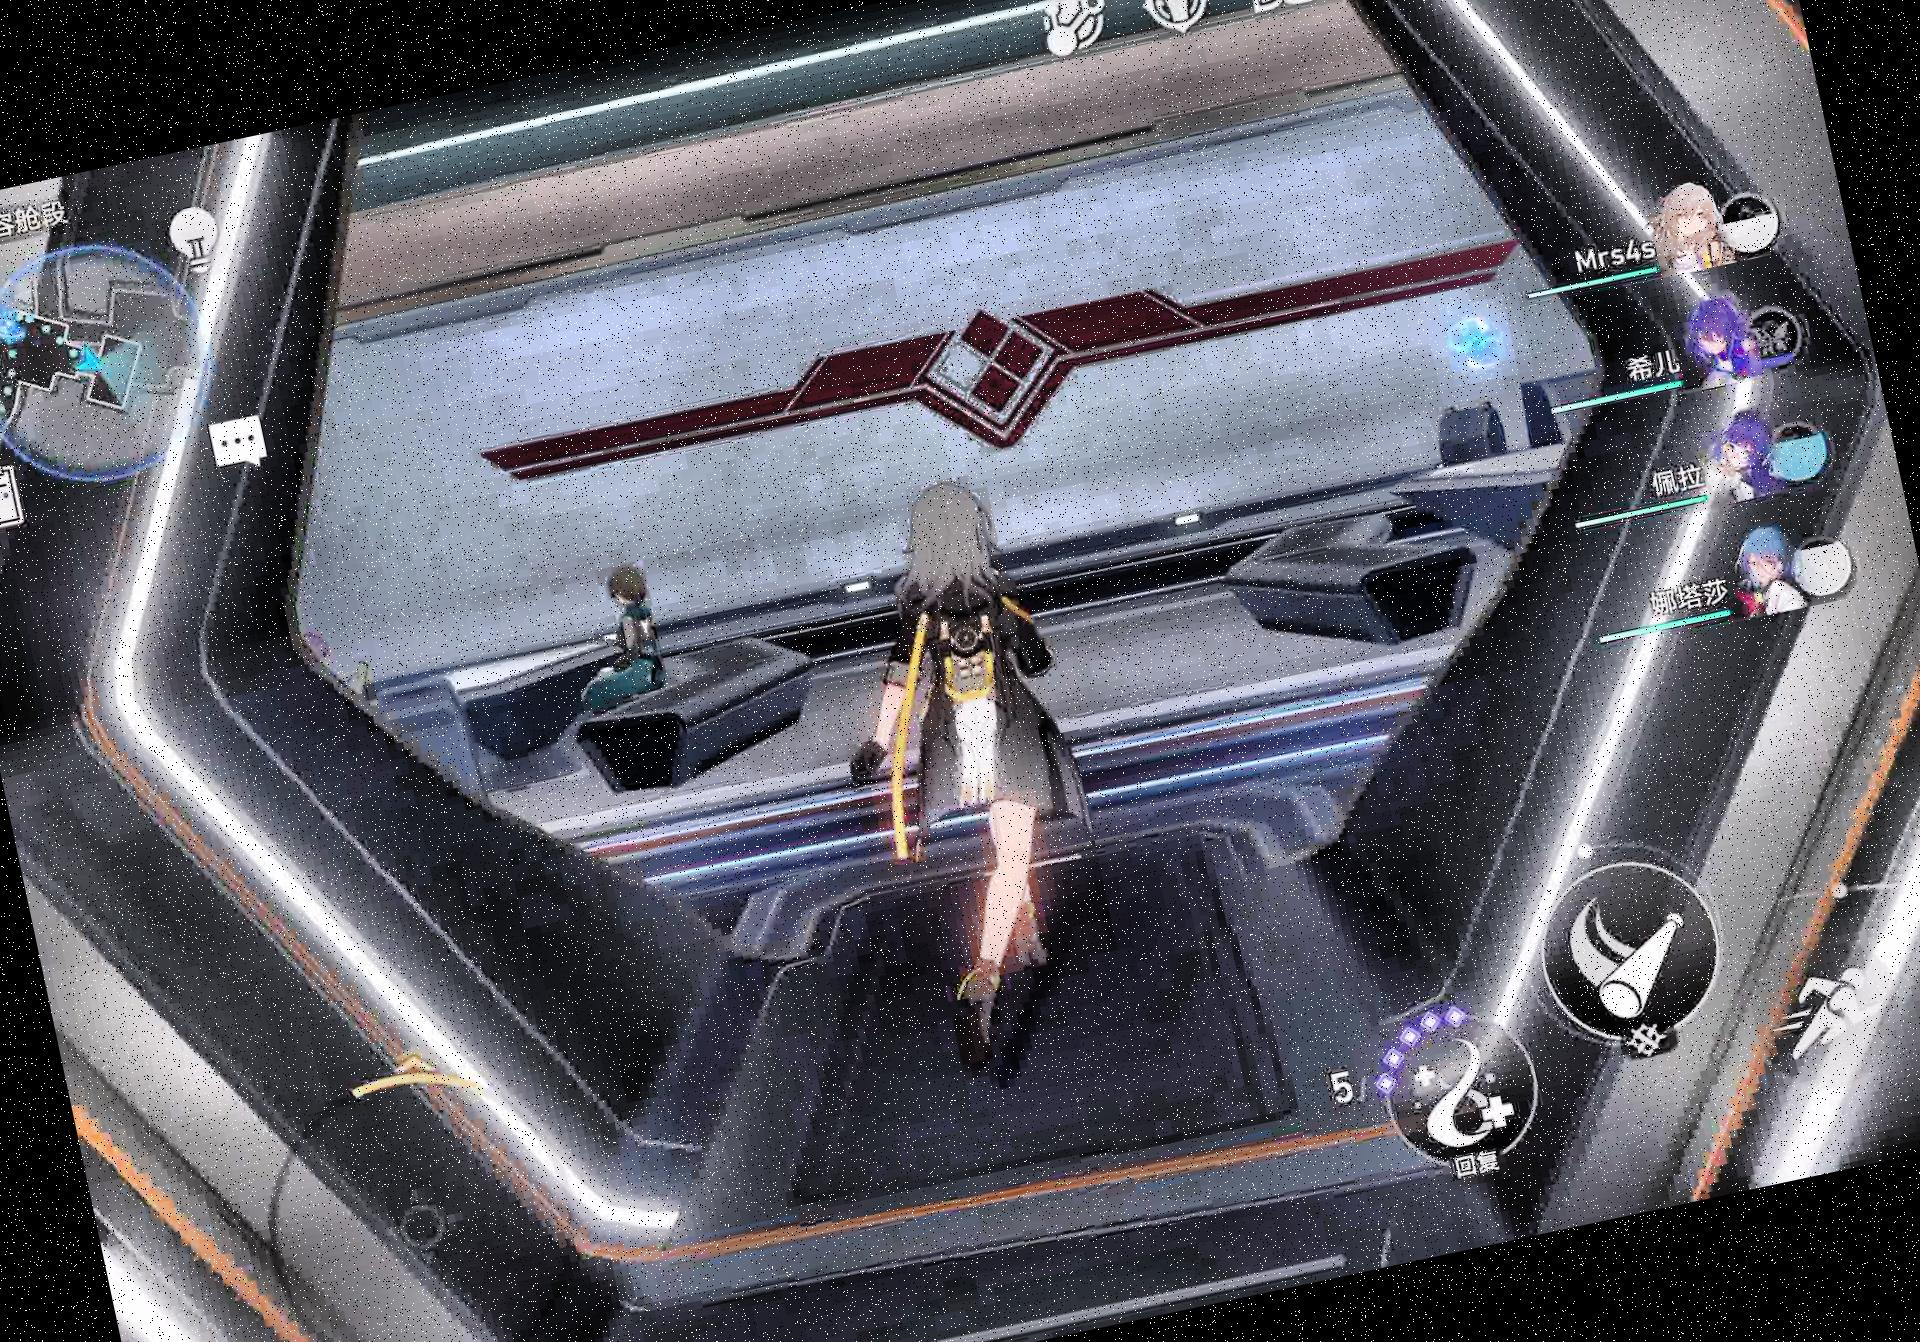Self: (794, 467, 1138, 1075)
TeamMate: (549, 563, 680, 731)
